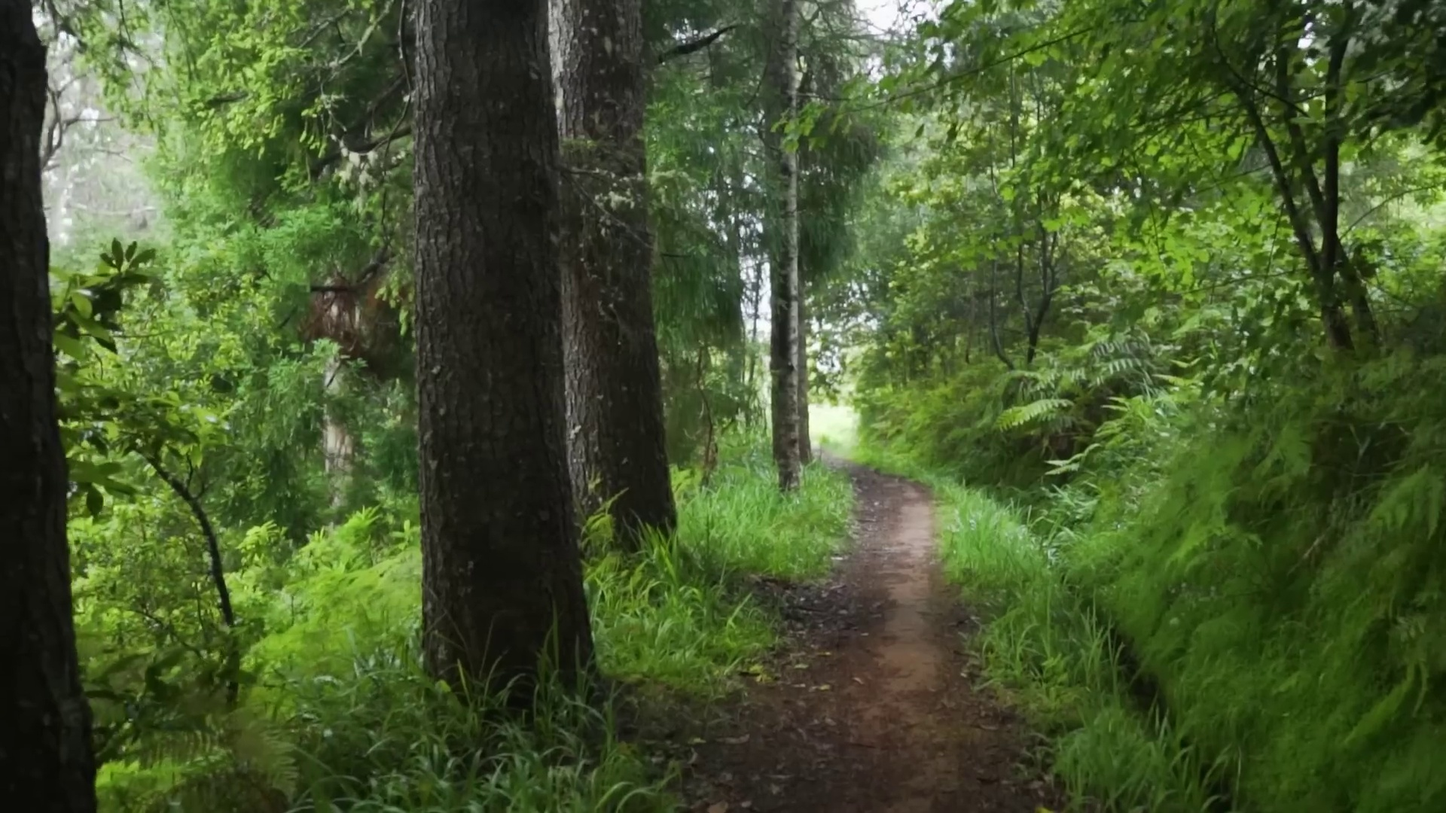tree: (414, 0, 591, 681), (0, 0, 95, 812), (552, 0, 676, 547), (765, 0, 801, 491)
